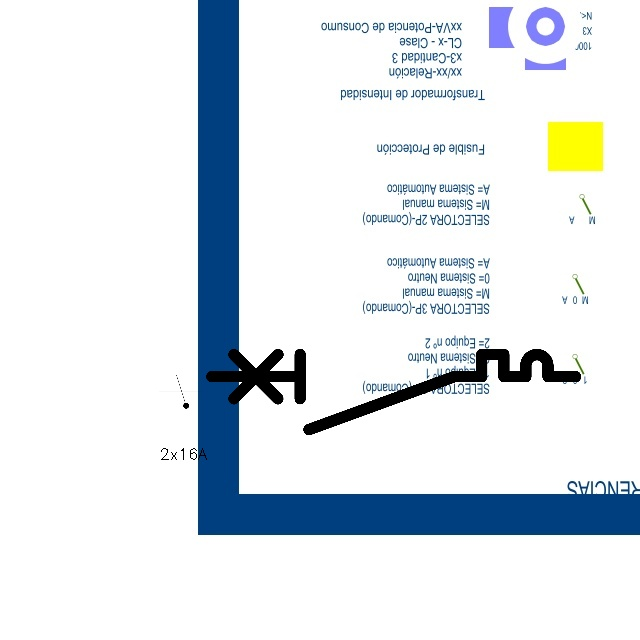interruptor_termomagnetico: (202, 345, 585, 438)
